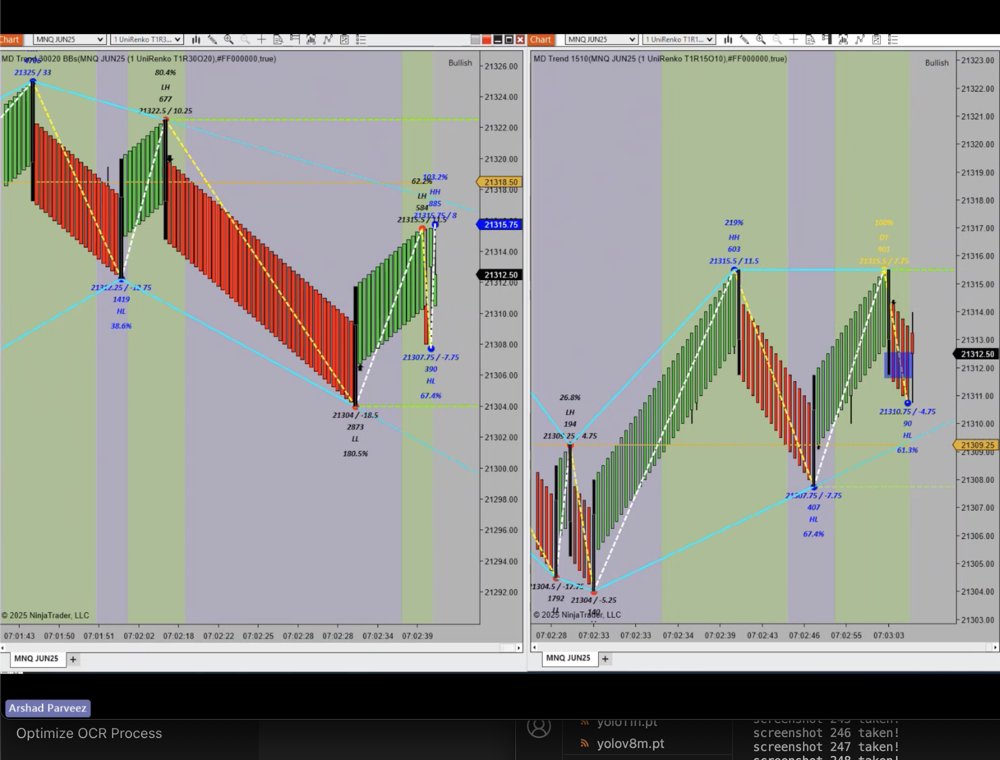HH: (726, 230, 749, 247), (429, 185, 448, 202)
HL: (109, 302, 136, 322), (806, 511, 828, 532), (417, 373, 442, 391), (894, 429, 922, 445)
LH: (410, 177, 429, 205), (151, 79, 180, 97), (559, 404, 580, 419)
LL: (344, 430, 364, 445), (548, 604, 564, 618)
